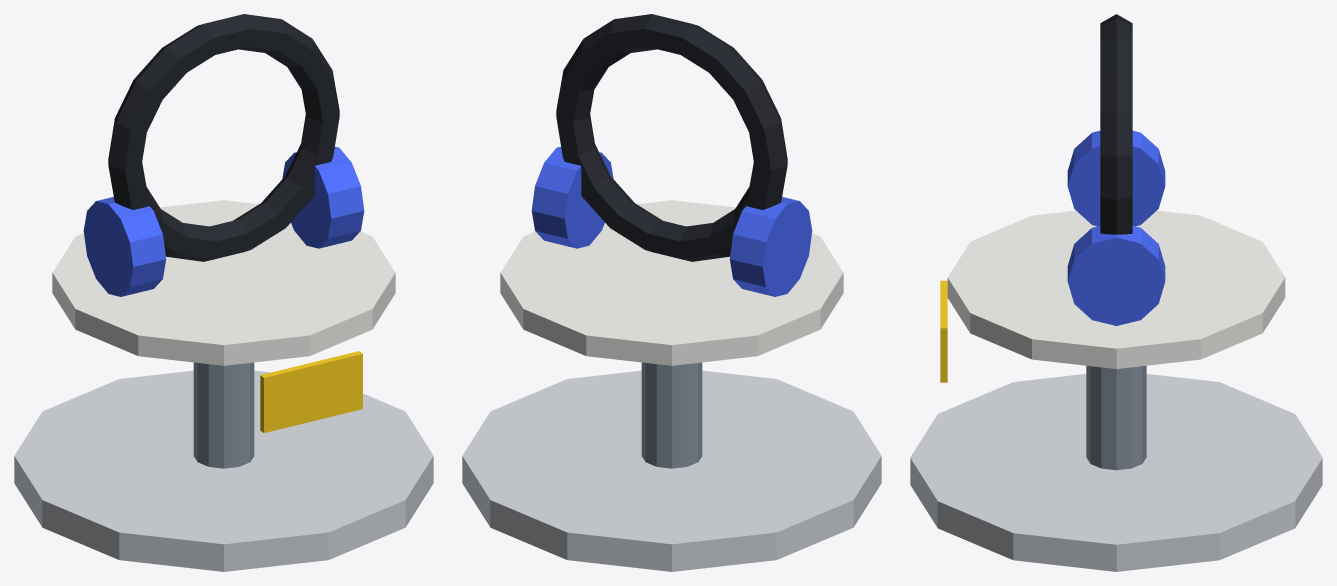
Rendered from item-headphones.glb.
The picture shows the model from 3 angles, left to right: view 1: azimuth 30°, elevation 25°; view 2: azimuth 150°, elevation 25°; view 3: azimuth 270°, elevation 25°; orthographic projection.
Parts seen in each view (by area): view 1: item-headphones; view 2: item-headphones; view 3: item-headphones.
Part boxes in pixels (<box>): item-headphones: <box>14,14,433,571</box>; item-headphones: <box>462,14,881,571</box>; item-headphones: <box>910,14,1322,571</box>.
Size of the model in its own units: 1.1 by 1.34 by 1.1.
